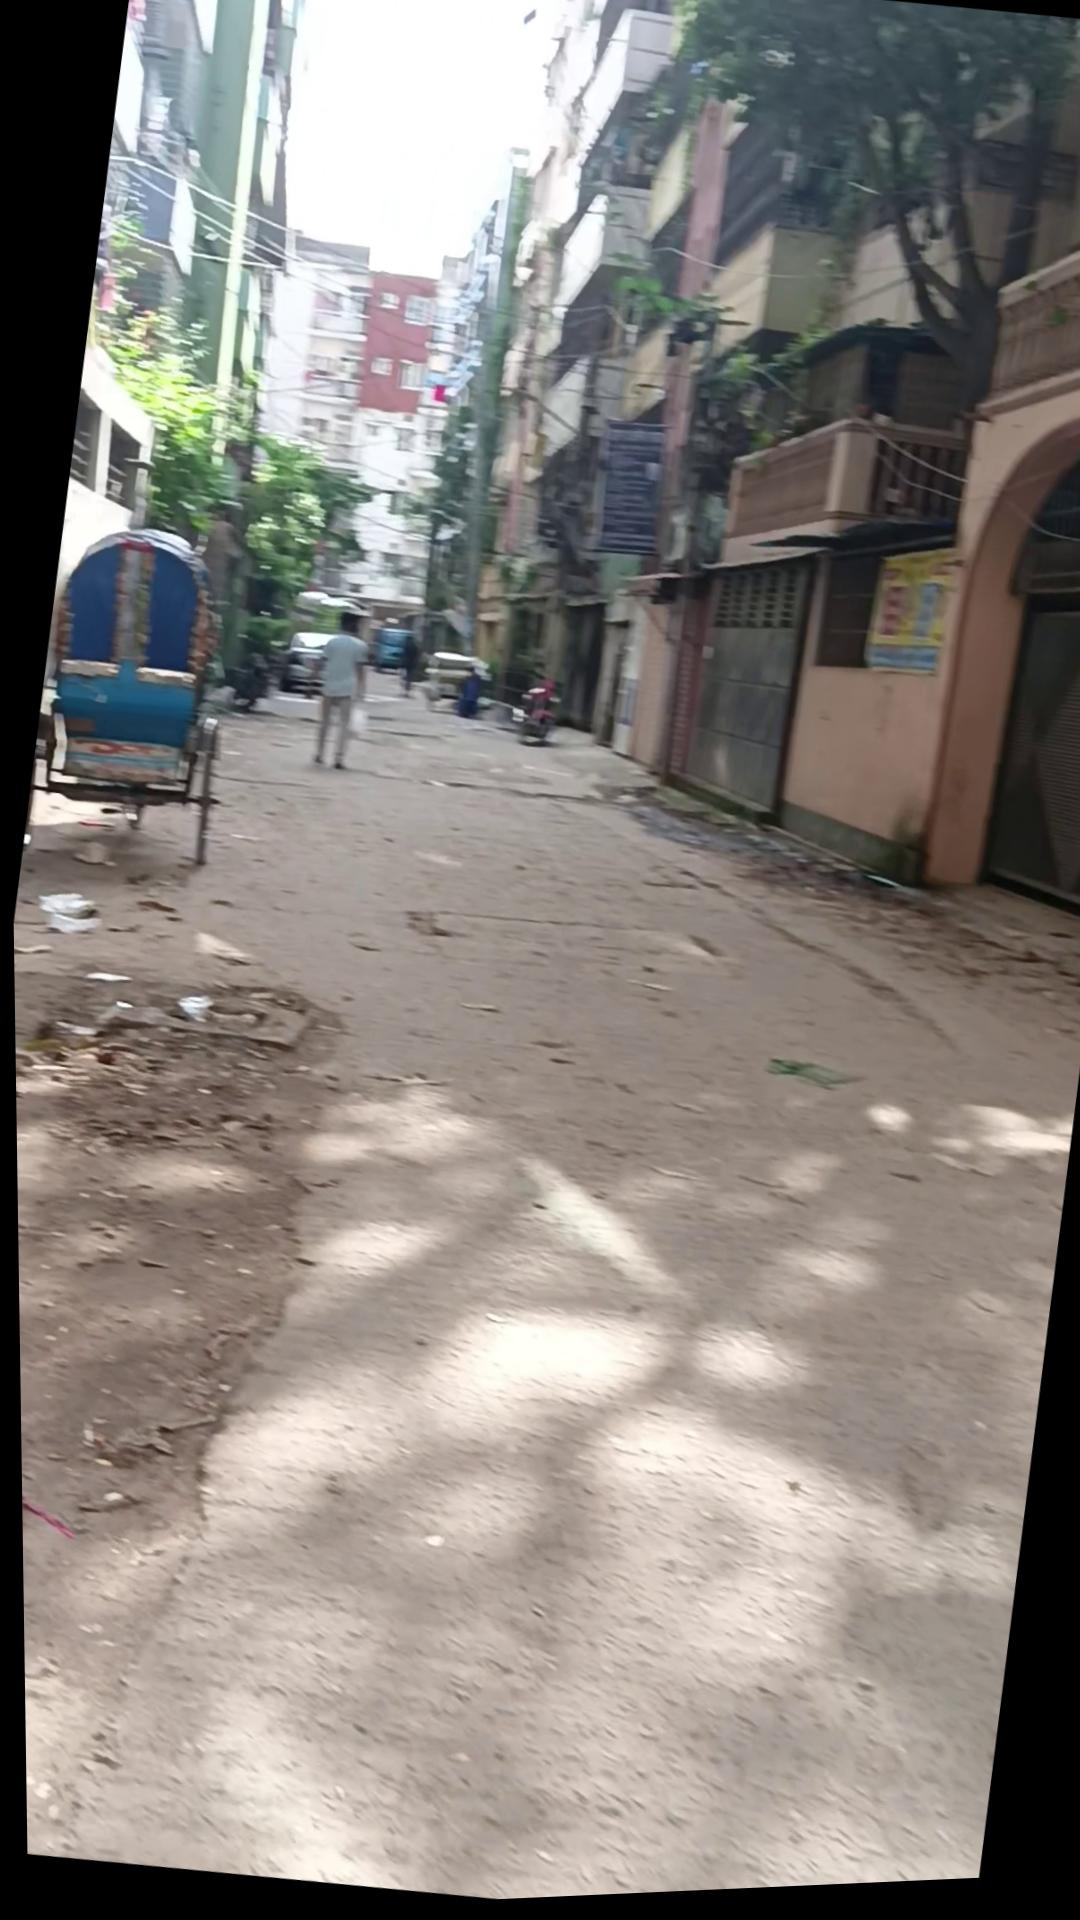Broken-road: (7, 591, 1080, 1920)
Light-pole: (507, 676, 562, 753)
Muddy road: (298, 608, 377, 775), (451, 666, 483, 724), (393, 634, 420, 701)
Pothole: (17, 511, 255, 876)
